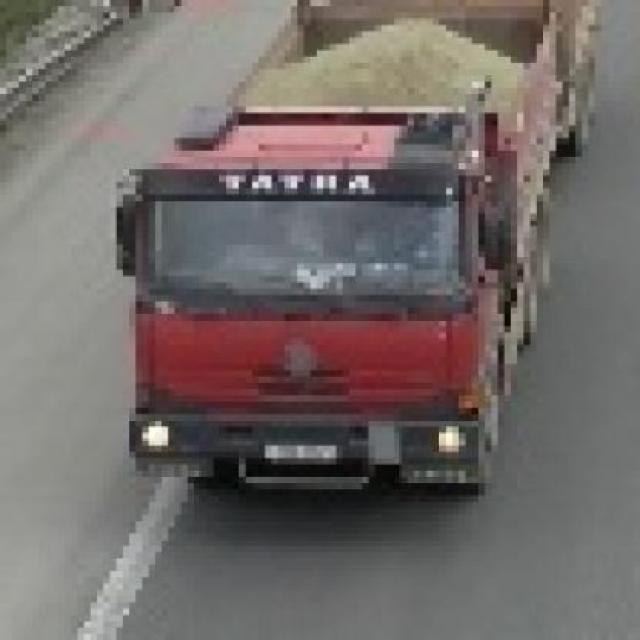truck: (125, 1, 603, 496)
